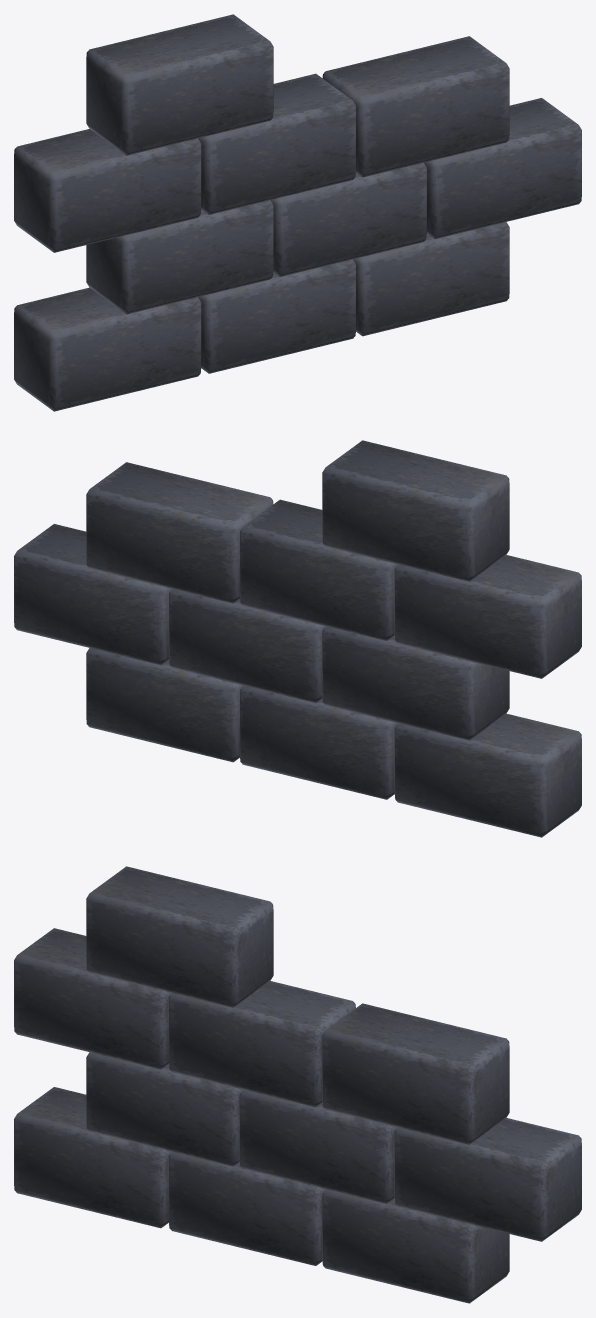
The model's file is SM_Wall_Broken3.fbx.
3 views of the same model, one above another, from view 1: azimuth 30°, elevation 25°; view 2: azimuth 150°, elevation 25°; view 3: azimuth 330°, elevation 25° (orthographic).
Parts seen in each view (by area): view 1: Cube.003; view 2: Cube.003; view 3: Cube.003.
Part boxes in pixels (x1,y1,x2,y2): Cube.003: (14,14,581,411); Cube.003: (14,440,581,837); Cube.003: (14,866,581,1303).
Size of the model in its own units: 369 by 210 by 50.55.
